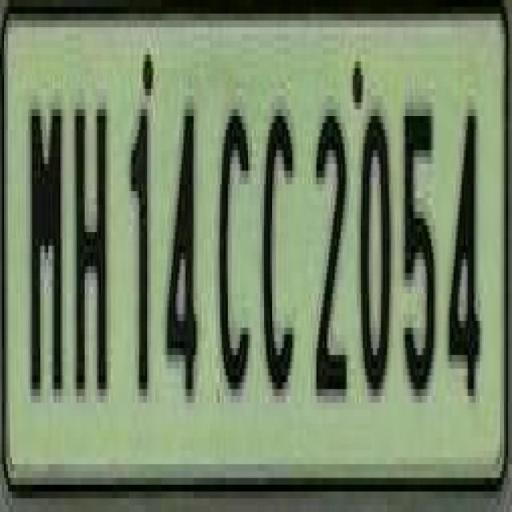number plate: (13, 27, 511, 498)
